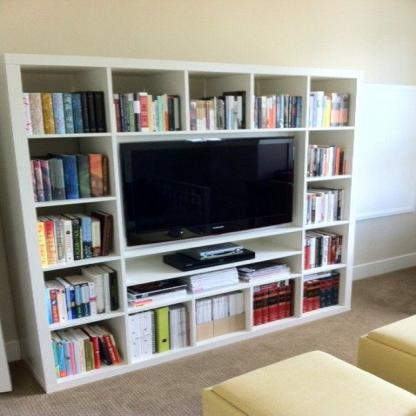lamp: (6, 53, 363, 397)
